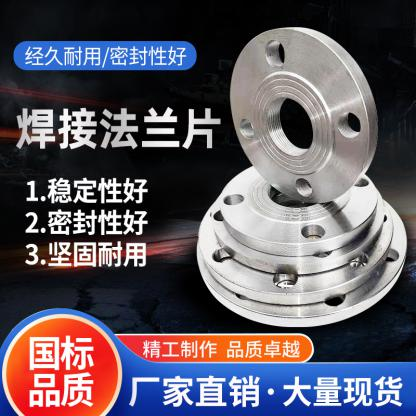FOD: (228, 27, 380, 198), (215, 154, 385, 258)
